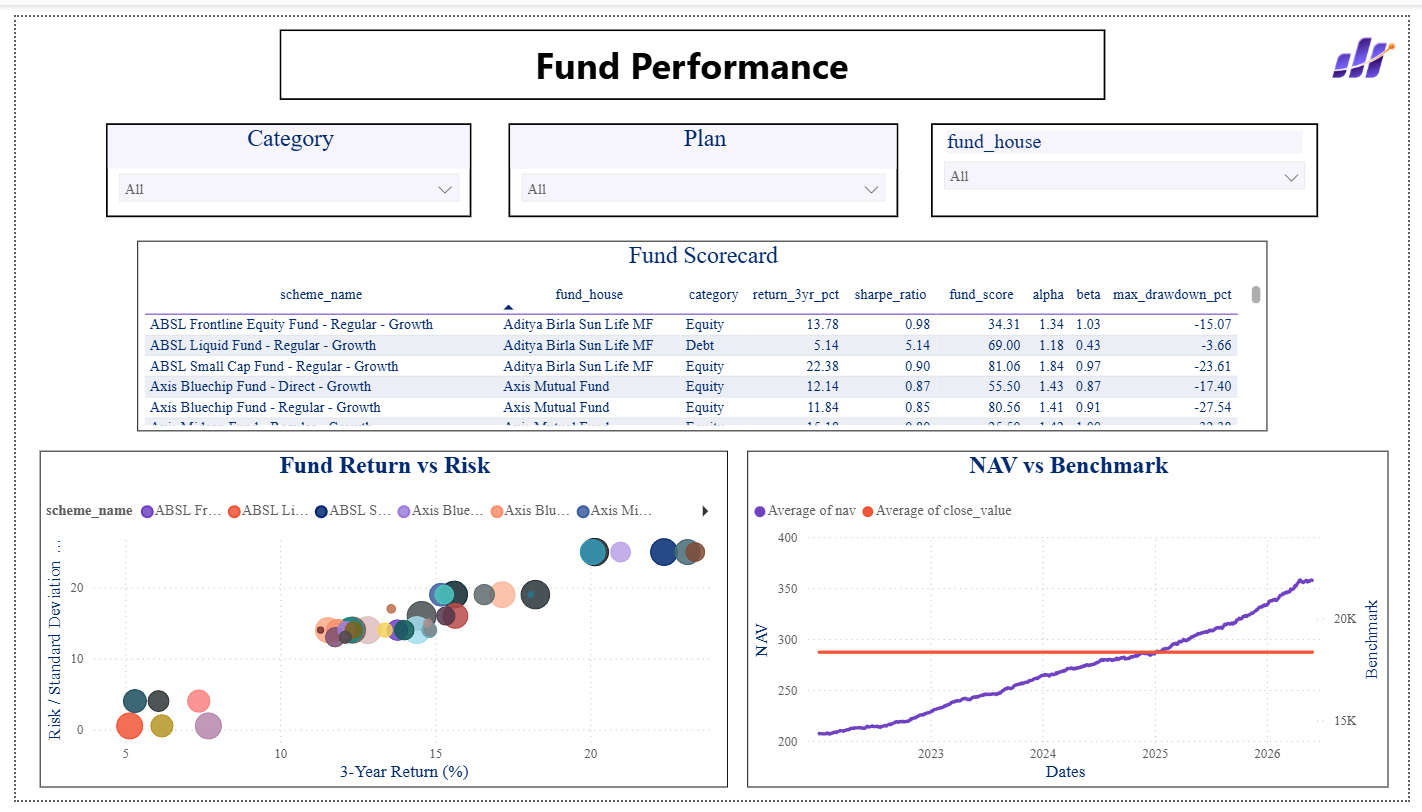

The page's visual inventory and layout, read from the dashboard file:
{"tool":"powerbi","page":{"name":"Fund Performance","canvas":[1280,720],"ordinal":1},"visuals":[{"type":"scatterChart","title":"Fund Return vs Risk","fields":{"X":["07_scheme_performance_cleaned.return_3yr_pct"],"Y":["07_scheme_performance_cleaned.std_dev_ann_pct"],"Size":["Sum(07_scheme_performance_cleaned.aum_crore)"],"Series":["07_scheme_performance_cleaned.scheme_name"]},"box":[22.1,398.8,632.6,309.3],"z":0},{"type":"tableEx","title":"Fund Scorecard","fields":{"Values":["01_fund_master.scheme_name","01_fund_master.fund_house","01_fund_master.category","07_scheme_performance_cleaned.return_3yr_pct","07_scheme_performance_cleaned.sharpe_ratio","fund_scorecard.fund_score","07_scheme_performance_cleaned.alpha","07_scheme_performance_cleaned.beta","07_scheme_performance_cleaned.max_drawdown_pct"]},"box":[111.6,205.8,1039.5,175.6],"z":1000},{"type":"slicer","fields":{"Values":["01_fund_master.fund_house"]},"box":[841.9,97.7,355.8,86],"z":2000},{"type":"slicer","title":"Category","fields":{"Values":["01_fund_master.category"]},"box":[82.6,97.7,336,86],"z":3000},{"type":"slicer","title":"Plan","fields":{"Values":["01_fund_master.plan"]},"box":[452.3,97.7,358.1,86],"z":4000},{"type":"lineChart","title":"NAV vs Benchmark","fields":{"Category":["02_nav_history_cleaned.date"],"Y":["Avg(02_nav_history_cleaned.nav)"],"Y2":["Avg(10_benchmark_indices.close_value)"]},"box":[672.1,398.8,589.5,309.3],"z":5000},{"type":"shape","box":[243,11.6,758.8,64.5],"z":6000},{"type":"image","box":[1197.7,0,82.3,75.5],"z":7000}]}

Visuals, with their boxes in screenshot pixels (x1, y1, x2, y2), scaled from the page's 1280x720 canvas onto the 1422x812 screenshot:
"Fund Return vs Risk" scatterChart: select_region(25, 450, 727, 799)
"Fund Scorecard" tableEx: select_region(124, 232, 1279, 430)
slicer - 01_fund_master.fund_house: select_region(935, 110, 1331, 207)
"Category" slicer: select_region(92, 110, 465, 207)
"Plan" slicer: select_region(502, 110, 900, 207)
"NAV vs Benchmark" lineChart: select_region(747, 450, 1402, 799)
shape: select_region(270, 13, 1113, 86)
image: select_region(1331, 0, 1421, 85)
